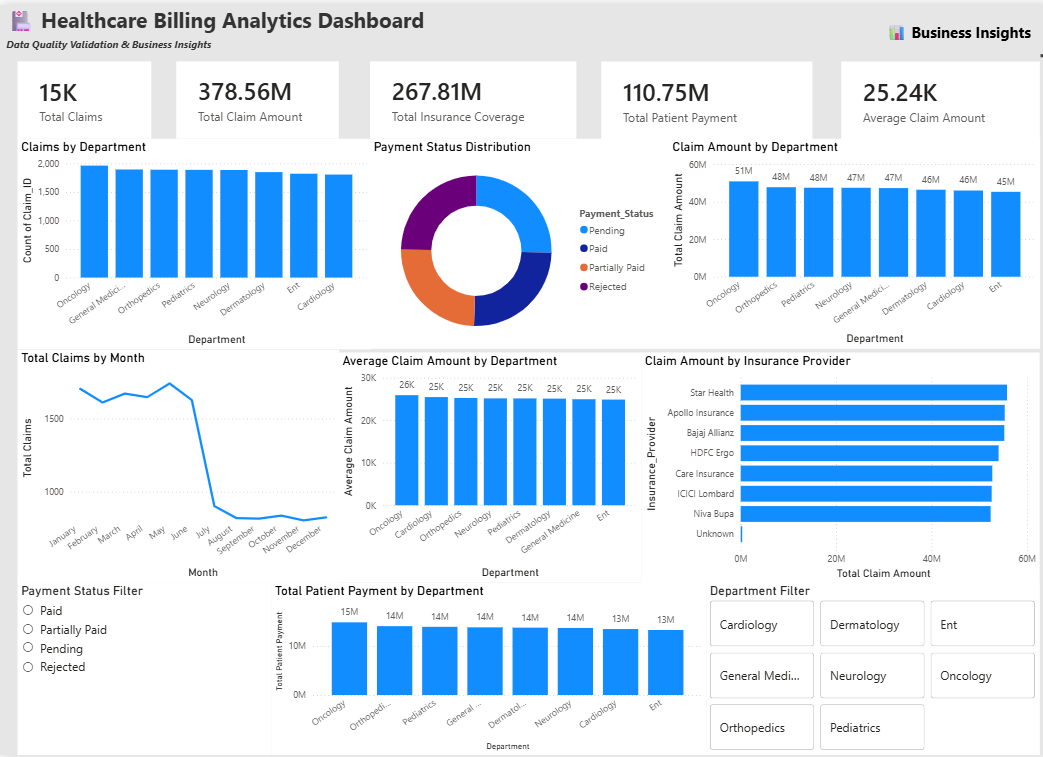

Layout of this report page (visuals, bound fields, positions):
{"tool":"powerbi","page":{"name":"Healthcare Billing Dashboard","canvas":[1400,1000],"ordinal":0},"visuals":[{"type":"cardVisual","fields":{"Data":["Healthcare_Billing.Total Claims"]},"box":[23.3,73.3,178.3,105],"z":0},{"type":"cardVisual","fields":{"Data":["Healthcare_Billing.Total Claim Amount"]},"box":[235,74,217,105],"z":1000},{"type":"cardVisual","fields":{"Data":["Healthcare_Billing.Total Insurance Coverage"]},"box":[493,74,275,105],"z":2000},{"type":"cardVisual","fields":{"Data":["Healthcare_Billing.Total Patient Payment"]},"box":[801.7,75,281.7,105],"z":3000},{"type":"cardVisual","fields":{"Data":["Healthcare_Billing.Average Claim Amount"]},"box":[1121.7,75,265,105],"z":4000},{"type":"clusteredColumnChart","title":"Claims by Department","fields":{"Category":["Healthcare_Billing.Department"],"Y":["Count(Healthcare_Billing.Claim_ID)"]},"box":[23.1,178.9,471.1,281.1],"z":5000},{"type":"donutChart","title":"Payment Status Distribution ","fields":{"Category":["Healthcare_Billing.Payment_Status"],"Y":["Healthcare_Billing.Total Claims"]},"box":[493.1,178.9,398.9,280],"z":6000},{"type":"clusteredColumnChart","title":"Claim Amount by Department","fields":{"Category":["Healthcare_Billing.Department"],"Y":["Healthcare_Billing.Total Claim Amount"]},"box":[891.7,178.3,495,280],"z":7000},{"type":"lineChart","title":"Total Claims by Month","fields":{"Category":["Healthcare_Billing.Service_Date.Variation.Date Hierarchy.Month"],"Y":["Healthcare_Billing.Total Claims"]},"box":[22.9,460,428.6,310],"z":8000},{"type":"clusteredBarChart","title":"Claim Amount by Insurance Provider","fields":{"Category":["Healthcare_Billing.Insurance_Provider"],"Y":["Healthcare_Billing.Total Claim Amount"]},"box":[855.7,462.9,531.4,307.1],"z":9000},{"type":"clusteredColumnChart","title":"Average Claim Amount by Department","fields":{"Category":["Healthcare_Billing.Department"],"Y":["Healthcare_Billing.Average Claim Amount"]},"box":[451.7,463.3,403.3,306.7],"z":10000},{"type":"clusteredColumnChart","fields":{"Category":["Healthcare_Billing.Department"],"Y":["Healthcare_Billing.Total Patient Payment"]},"box":[361.7,770,580,230],"z":11000},{"type":"textbox","title":"🏥 Healthcare Billing Analytics Dashboard","box":[3.3,0,1396.7,75],"z":12000},{"type":"advancedSlicerVisual","title":"Department Filter","fields":{"Values":["Healthcare_Billing.Department"]},"box":[941.7,770,445,230],"z":13000},{"type":"listSlicer","title":"Payment Status Filter","fields":{"Values":["Healthcare_Billing.Payment_Status"]},"box":[23.3,770,338.3,230],"z":14000},{"type":"actionButton","box":[1178.3,18.3,208.3,38.3],"z":15000}]}

Visuals, with their boxes in screenshot pixels (x1, y1, x2, y2), scaled from the page's 1400x1000 canvas onto the 1043x757 screenshot:
cardVisual - Healthcare_Billing.Total Claims: (left=17, top=55, right=150, bottom=135)
cardVisual - Healthcare_Billing.Total Claim Amount: (left=175, top=56, right=337, bottom=136)
cardVisual - Healthcare_Billing.Total Insurance Coverage: (left=367, top=56, right=572, bottom=136)
cardVisual - Healthcare_Billing.Total Patient Payment: (left=597, top=57, right=807, bottom=136)
cardVisual - Healthcare_Billing.Average Claim Amount: (left=836, top=57, right=1033, bottom=136)
"Claims by Department" clusteredColumnChart: (left=17, top=135, right=368, bottom=348)
"Payment Status Distribution " donutChart: (left=367, top=135, right=665, bottom=347)
"Claim Amount by Department" clusteredColumnChart: (left=664, top=135, right=1033, bottom=347)
"Total Claims by Month" lineChart: (left=17, top=348, right=336, bottom=583)
"Claim Amount by Insurance Provider" clusteredBarChart: (left=637, top=350, right=1033, bottom=583)
"Average Claim Amount by Department" clusteredColumnChart: (left=337, top=351, right=637, bottom=583)
clusteredColumnChart - Healthcare_Billing.Department x Healthcare_Billing.Total Patient Payment: (left=269, top=583, right=702, bottom=756)
"🏥 Healthcare Billing Analytics Dashboard" textbox: (left=2, top=0, right=1042, bottom=57)
"Department Filter" advancedSlicerVisual: (left=702, top=583, right=1033, bottom=756)
"Payment Status Filter" listSlicer: (left=17, top=583, right=269, bottom=756)
actionButton: (left=878, top=14, right=1033, bottom=43)
